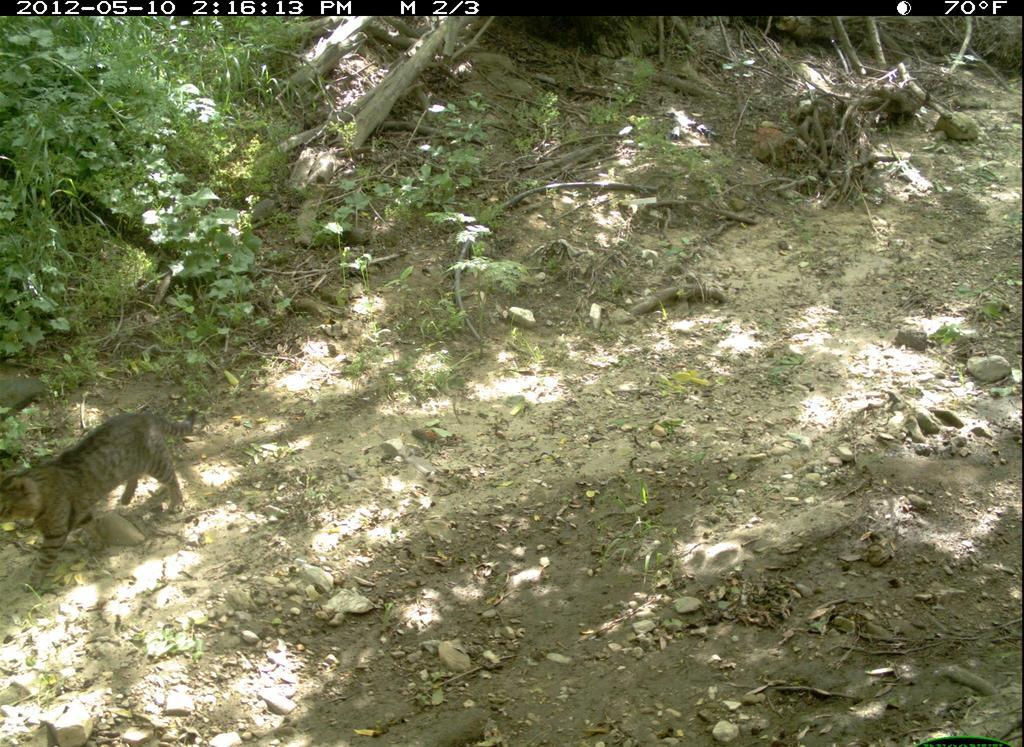cat: (2, 400, 205, 584)
